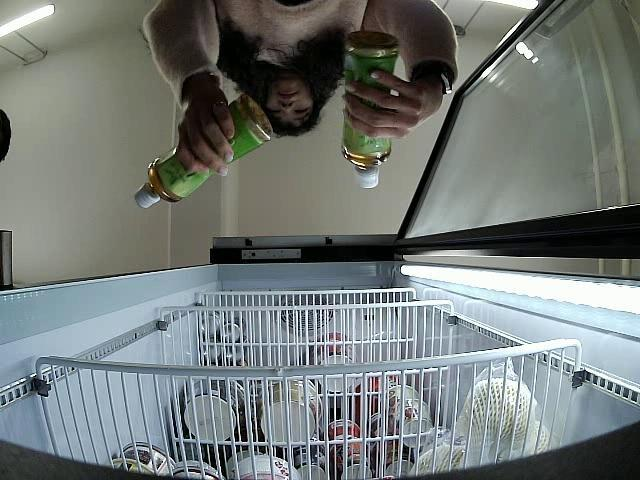19_17cha: (132, 94, 272, 208), (340, 28, 401, 188)
